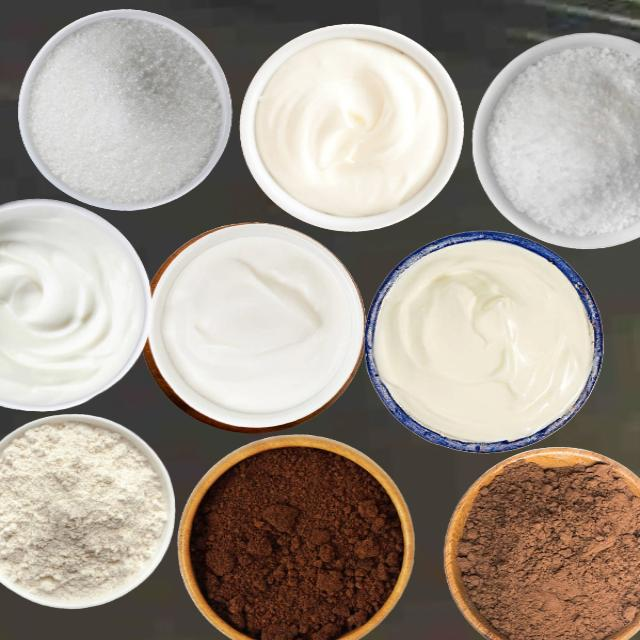Cocoa: (445, 447, 639, 639)
Coffee: (188, 443, 406, 639)
Flour: (0, 421, 167, 601)
Sugar: (27, 16, 222, 205), (486, 44, 639, 237)
